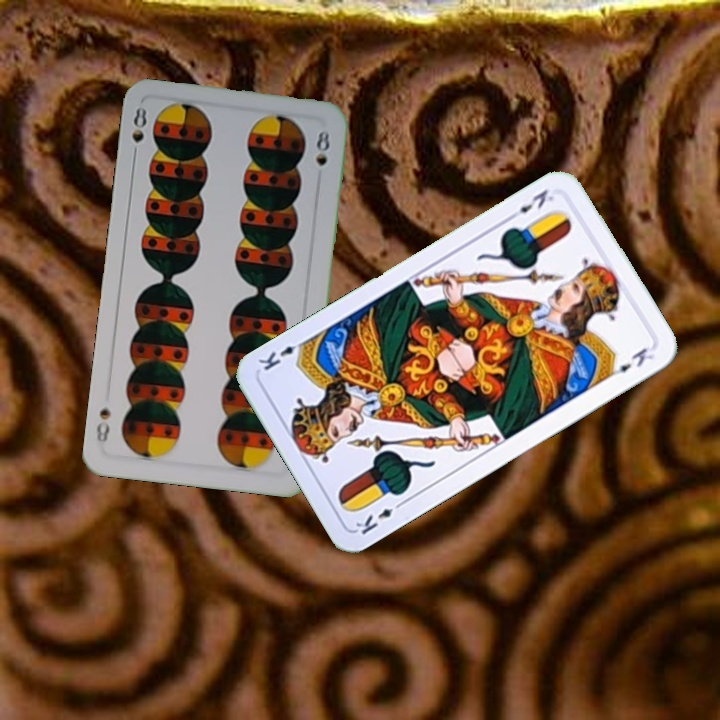EK: (351, 496, 407, 538), (504, 185, 557, 224)
S8: (128, 103, 149, 162)
